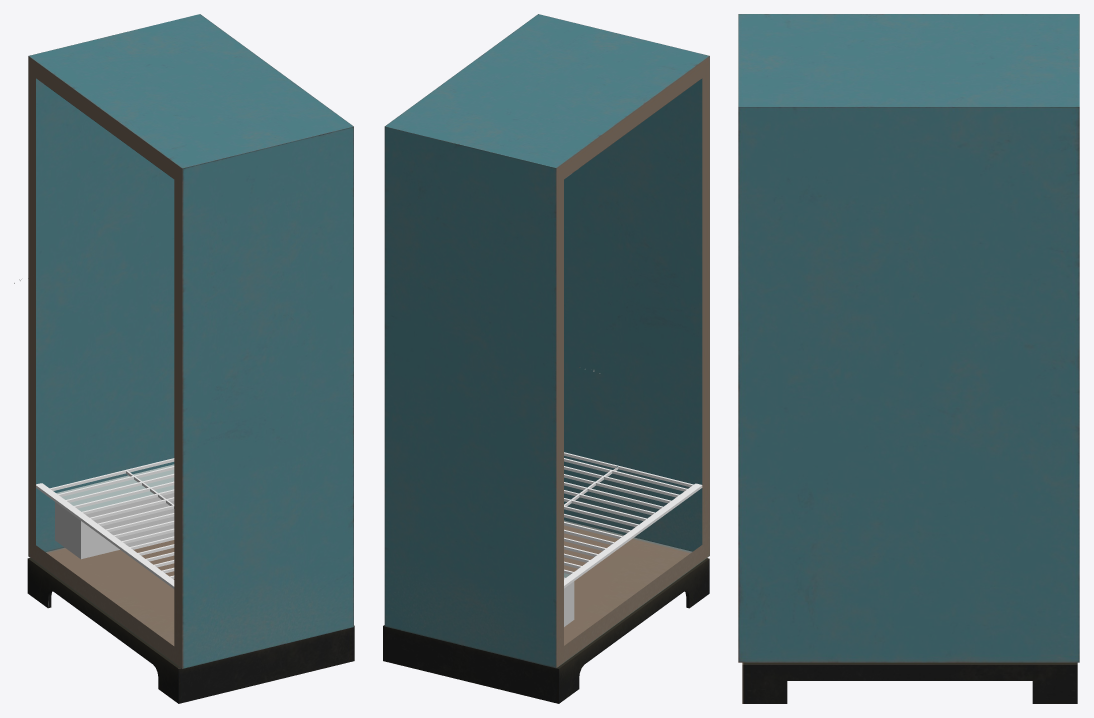
3 renders of one model, left to right at view 1: azimuth 30°, elevation 25°; view 2: azimuth 150°, elevation 25°; view 3: azimuth 270°, elevation 25°, orthographic. The views are drawn at different scales.
Visible parts, largest first — view 1: pCube211, Box033_Chrome_0.001, Cube; view 2: pCube211, Box033_Chrome_0.001; view 3: pCube211.
Boxes of the visible parts, x1,y1,x2,y2 form: pCube211: [14, 14, 354, 703]; Box033_Chrome_0.001: [36, 458, 174, 588]; Cube: [55, 464, 174, 559]; pCube211: [383, 14, 709, 703]; Box033_Chrome_0.001: [564, 452, 702, 588]; pCube211: [738, 14, 1079, 703].
Bounding box in the file's own units: 54.32 × 137 × 71.18.
Materials: 4 (1 with a texture image).
